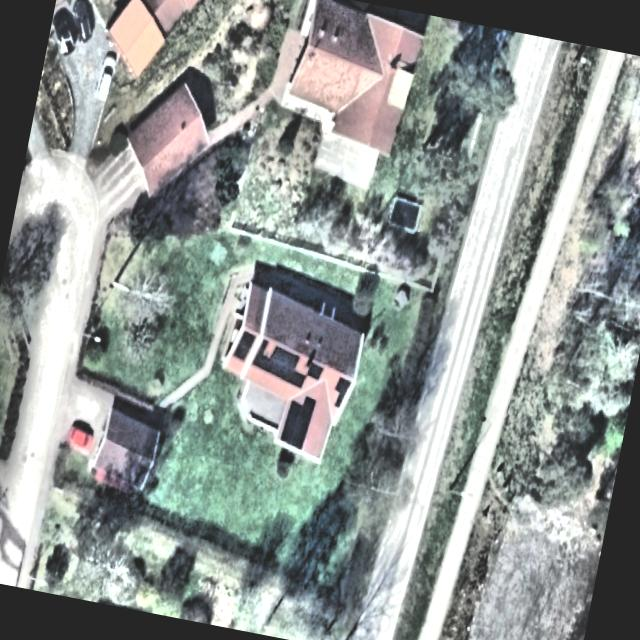roof_pv: (248, 336, 312, 396), (276, 390, 318, 450), (327, 368, 355, 421), (230, 328, 258, 372), (301, 357, 329, 387)
